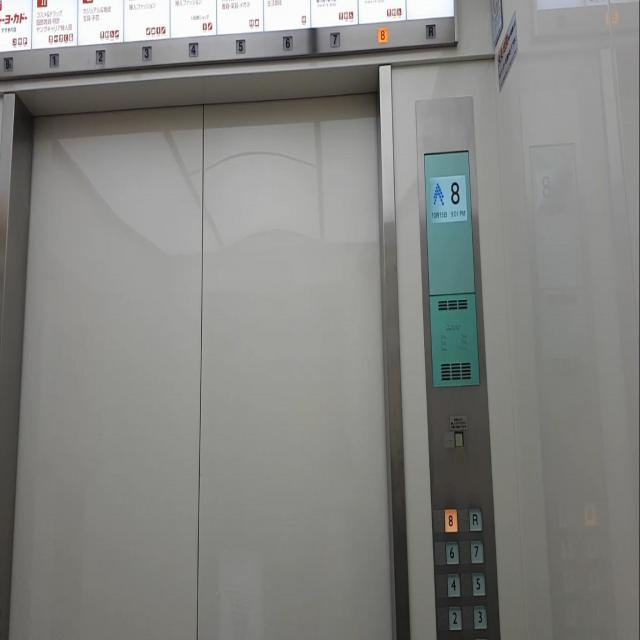1: (49, 50, 60, 68)
2: (447, 604, 463, 632), (94, 47, 106, 65)
3: (473, 603, 487, 629), (140, 43, 152, 61)
4: (446, 572, 461, 596), (187, 39, 200, 58)
5: (471, 570, 486, 597), (234, 36, 246, 56)
6: (444, 538, 460, 567), (281, 33, 293, 51)
7: (468, 537, 484, 565), (330, 32, 340, 46)
8: (442, 506, 458, 534), (375, 23, 389, 45)
B1: (2, 54, 14, 72)
R: (468, 506, 483, 532), (423, 20, 438, 42)
empty: (453, 427, 465, 449)
led: (429, 173, 467, 225)
